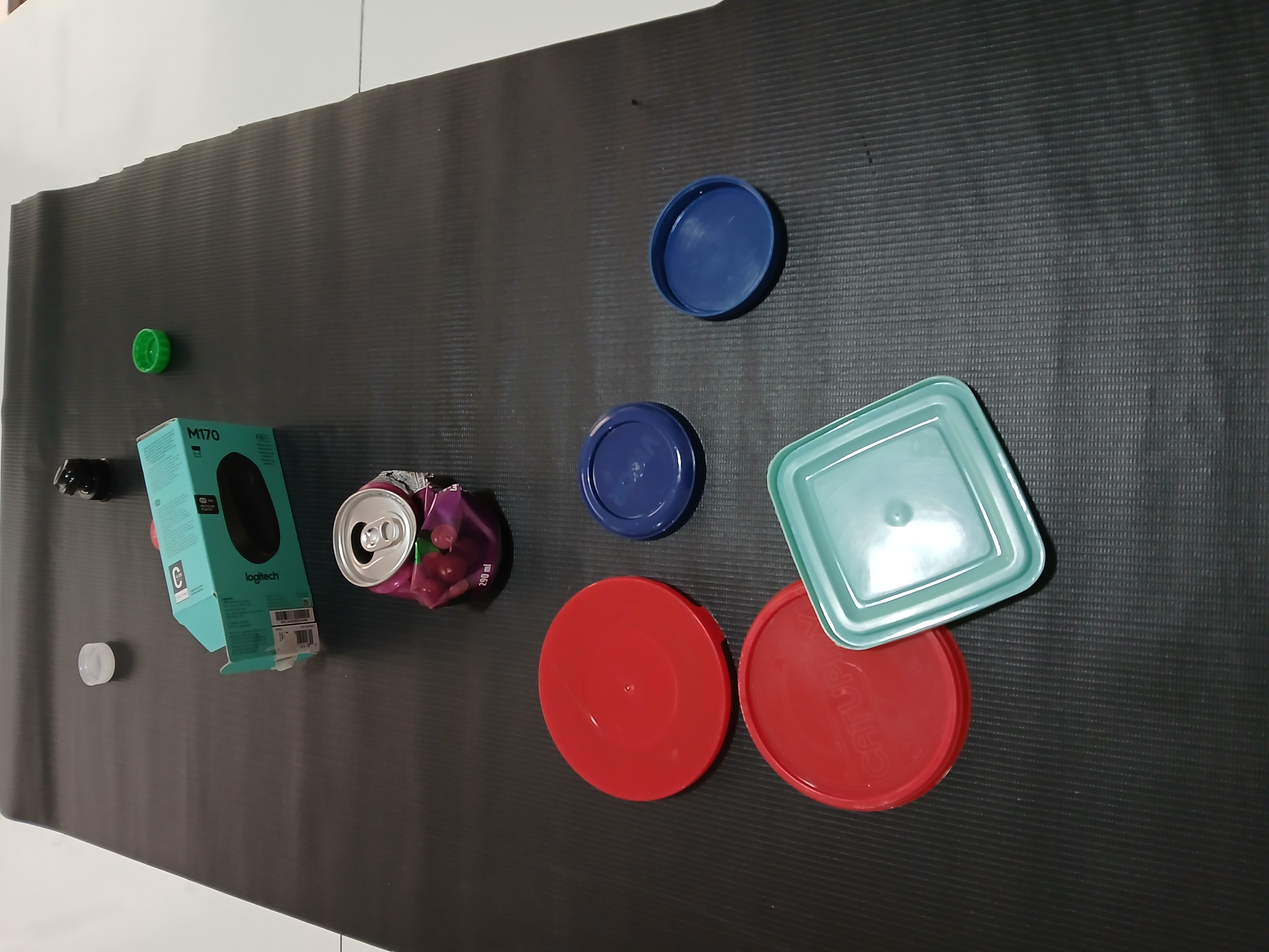Corrugated carton: (129, 414, 327, 678)
Drink can: (329, 462, 518, 613)
Plastic bottle cap: (760, 372, 1059, 654), (738, 569, 972, 812), (536, 568, 740, 810), (640, 170, 791, 323), (574, 389, 713, 542), (52, 453, 122, 506), (130, 317, 176, 378), (75, 636, 122, 690)
